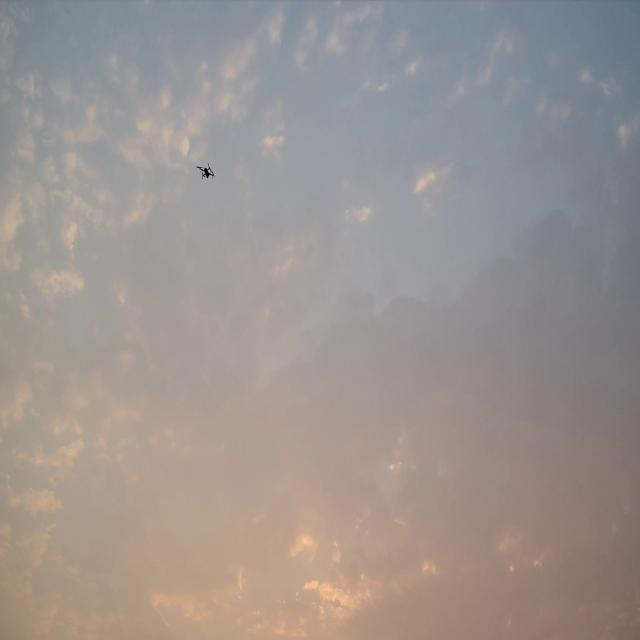drone: (196, 162, 216, 179)
